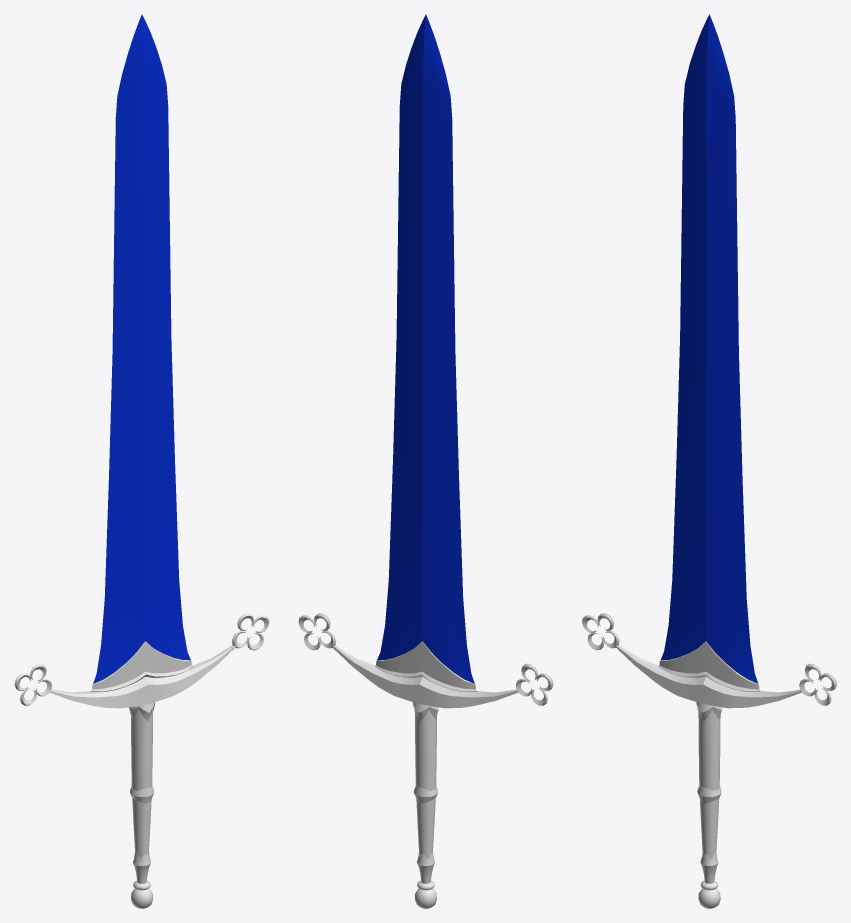
The model's file is Mondhimmel.fbx.
3 views of the same model, side by side, from view 1: azimuth 30°, elevation 25°; view 2: azimuth 150°, elevation 25°; view 3: azimuth 330°, elevation 25° (orthographic).
Visible parts, largest first — view 1: Mondhimmel; view 2: Mondhimmel; view 3: Mondhimmel.
Part boxes in pixels (bbox=[...]): Mondhimmel: bbox=[14, 14, 269, 908]; Mondhimmel: bbox=[298, 14, 553, 908]; Mondhimmel: bbox=[582, 14, 836, 908].
Bounding box in the file's own units: 41.25 × 138 × 4.02.
